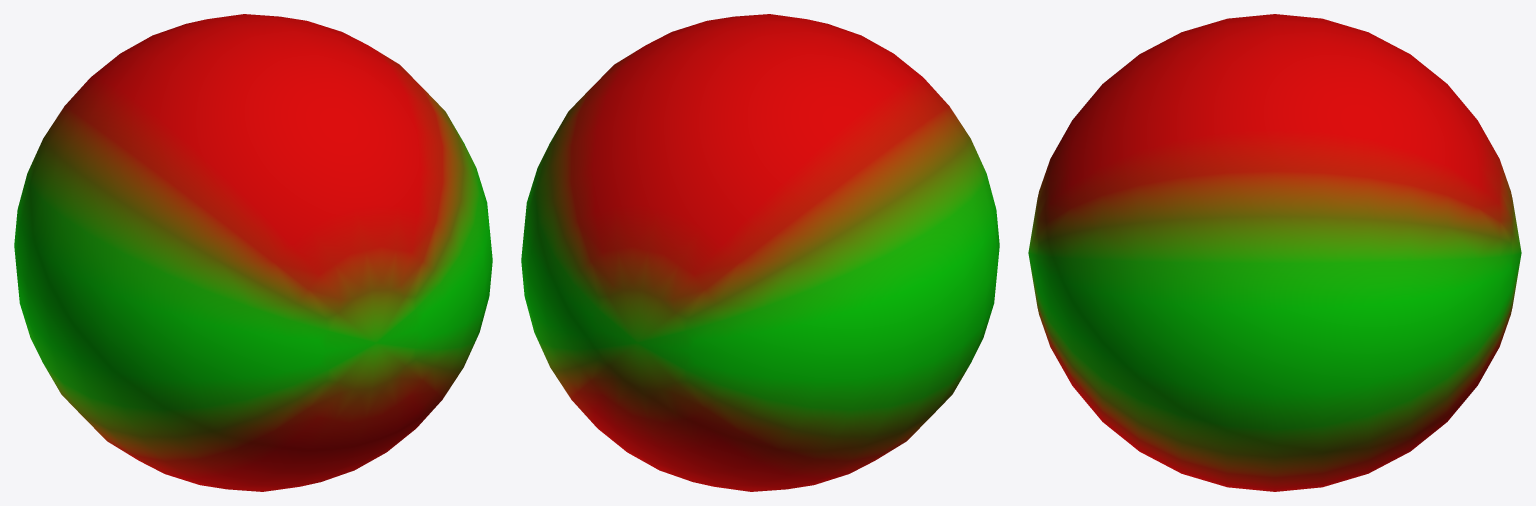
3 views of the same model, side by side, from view 1: azimuth 30°, elevation 25°; view 2: azimuth 150°, elevation 25°; view 3: azimuth 270°, elevation 25° (orthographic).
Parts seen in each view (by area): view 1: SM_HP_Sphere_01; view 2: SM_HP_Sphere_01; view 3: SM_HP_Sphere_01.
Boxes of the visible parts, x1,y1,x2,y2 form: SM_HP_Sphere_01: (14,14,492,491); SM_HP_Sphere_01: (521,14,999,491); SM_HP_Sphere_01: (1028,14,1521,491).
Bounding box in the file's own units: 11.09 × 11.43 × 11.09.
